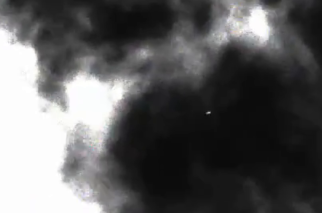Target: (206, 111, 210, 113)
